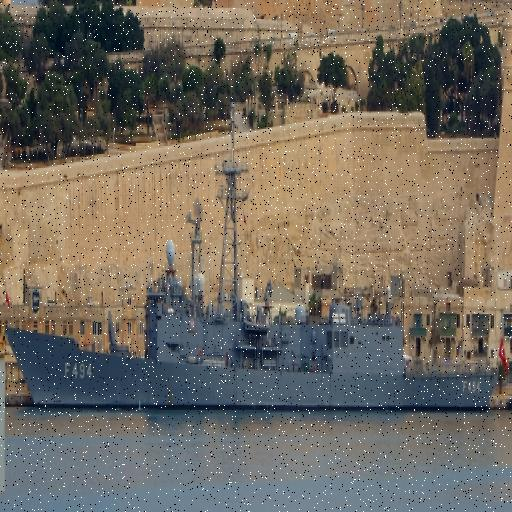Fragata: (1, 107, 498, 423)
